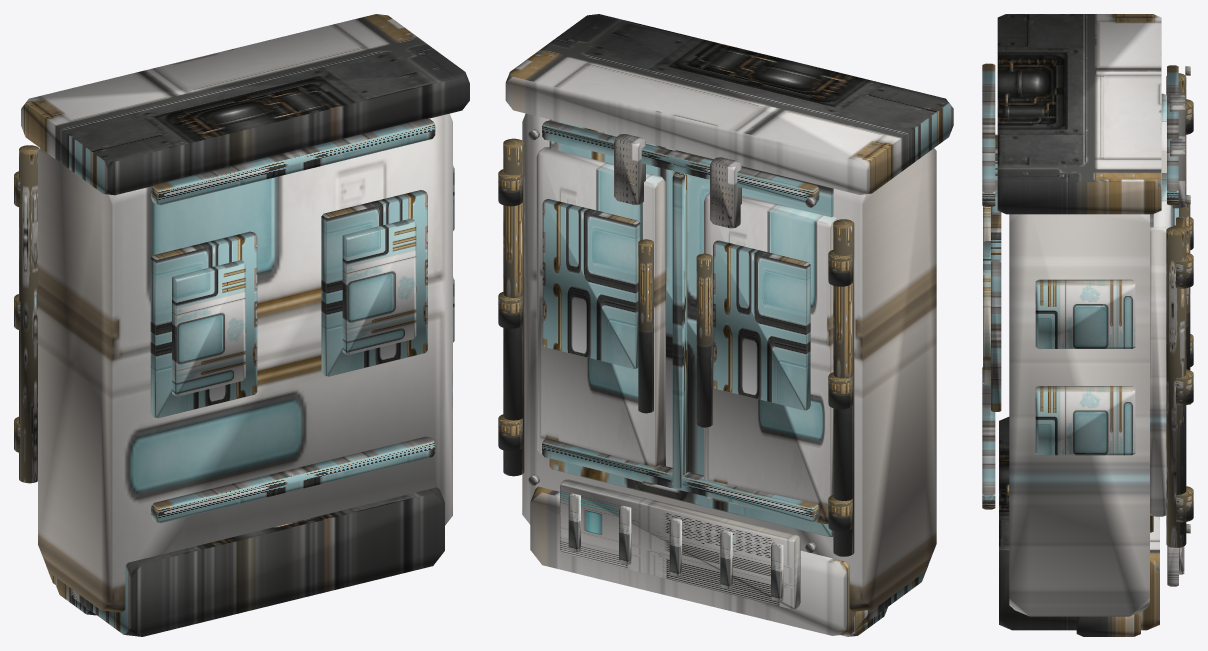
The model's file is room_l5_v3_tissue_freezer_cabinet.glb.
3 views of the same model, side by side, from view 1: azimuth 30°, elevation 25°; view 2: azimuth 150°, elevation 25°; view 3: azimuth 270°, elevation 25° (orthographic). The views are drawn at different scales.
Parts seen in each view (by area): view 1: white_ceramic_cold_cabinet_body, cold_storage_top_compressor_cap, graphite_compressor_plinth, rear_visible_cyan_window_0.32, rear_visible_cyan_window_-0.32, rear_black_window_gasket_-0.32, rear_black_window_gasket_0.32, rear_black_horizontal_gasket_0.48, rear_black_horizontal_gasket_1.62, brass_vertical_hinge_-0.62; view 2: cold_storage_top_compressor_cap, white_ceramic_cold_cabinet_body, separate_ceramic_door_-0.32, separate_ceramic_door_0.32, front_vent_grille_panel, front_black_window_recess_gasket_-0.32, front_black_window_recess_gasket_0.32, flush_dark_freezer_door_backing, graphite_compressor_plinth, brass_vertical_hinge_0.62, brass_vertical_hinge_-0.62, black_horizontal_gasket_0.48 (+17 smaller); view 3: white_ceramic_cold_cabinet_body, cold_storage_top_compressor_cap, right_side_cyan_cold_status_0.86, right_side_cyan_cold_status_1.26, brass_vertical_hinge_0.62, separate_ceramic_door_0.32, graphite_compressor_plinth, rear_black_window_gasket_0.32, rear_black_horizontal_gasket_1.62, rear_black_horizontal_gasket_0.48, black_horizontal_gasket_1.62, heavy_freezer_leveling_foot_0.45 (+10 smaller).
Boxes of the visible parts, left/top/right/bottom form: white_ceramic_cold_cabinet_body: left=38, top=113, right=452, bottom=612; cold_storage_top_compressor_cap: left=21, top=14, right=469, bottom=195; graphite_compressor_plinth: left=46, top=487, right=444, bottom=636; rear_visible_cyan_window_0.32: left=342, top=218, right=416, bottom=354; rear_visible_cyan_window_-0.32: left=172, top=260, right=245, bottom=396; rear_black_window_gasket_-0.32: left=150, top=231, right=257, bottom=418; rear_black_window_gasket_0.32: left=321, top=190, right=427, bottom=376; rear_black_horizontal_gasket_0.48: left=151, top=436, right=435, bottom=523; rear_black_horizontal_gasket_1.62: left=151, top=118, right=435, bottom=205; brass_vertical_hinge_-0.62: left=19, top=145, right=39, bottom=483; cold_storage_top_compressor_cap: left=505, top=14, right=953, bottom=194; white_ceramic_cold_cabinet_body: left=522, top=113, right=936, bottom=611; separate_ceramic_door_-0.32: left=704, top=192, right=837, bottom=523; separate_ceramic_door_0.32: left=536, top=147, right=665, bottom=484; front_vent_grille_panel: left=560, top=479, right=800, bottom=609; front_black_window_recess_gasket_-0.32: left=713, top=240, right=810, bottom=410; front_black_window_recess_gasket_0.32: left=542, top=199, right=640, bottom=368; flush_dark_freezer_door_backing: left=549, top=119, right=833, bottom=537; graphite_compressor_plinth: left=530, top=486, right=928, bottom=635; brass_vertical_hinge_0.62: left=503, top=138, right=524, bottom=476; brass_vertical_hinge_-0.62: left=833, top=219, right=854, bottom=556; black_horizontal_gasket_0.48: left=542, top=438, right=818, bottom=521; white_ceramic_cold_cabinet_body: left=1009, top=214, right=1149, bottom=616; cold_storage_top_compressor_cap: left=997, top=14, right=1161, bottom=214; right_side_cyan_cold_status_0.86: left=1035, top=386, right=1135, bottom=455; right_side_cyan_cold_status_1.26: left=1035, top=279, right=1135, bottom=348; brass_vertical_hinge_0.62: left=1166, top=226, right=1186, bottom=547; separate_ceramic_door_0.32: left=1150, top=173, right=1174, bottom=516; graphite_compressor_plinth: left=999, top=417, right=1159, bottom=630; rear_black_window_gasket_0.32: left=991, top=213, right=1001, bottom=411; rear_black_horizontal_gasket_1.62: left=982, top=63, right=995, bottom=206; rear_black_horizontal_gasket_0.48: left=982, top=367, right=995, bottom=509; black_horizontal_gasket_1.62: left=1167, top=65, right=1178, bottom=205; heavy_freezer_leveling_foot_0.45: left=1076, top=613, right=1140, bottom=636.
Size of the model in its own units: 1.38 by 1.75 by 0.7225.
Materials: 15 (15 with a texture image).
